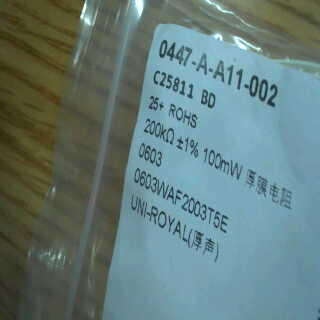200kR: (140, 117, 177, 150)
